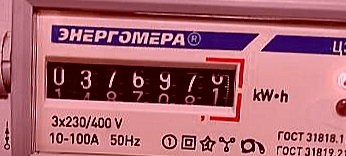0: (52, 63, 66, 86)
1: (209, 85, 222, 105)
3: (78, 67, 94, 89)
6: (130, 65, 146, 88)
7: (103, 65, 119, 88), (184, 69, 199, 93)
9: (156, 67, 172, 91)
screen: (34, 46, 248, 125)
